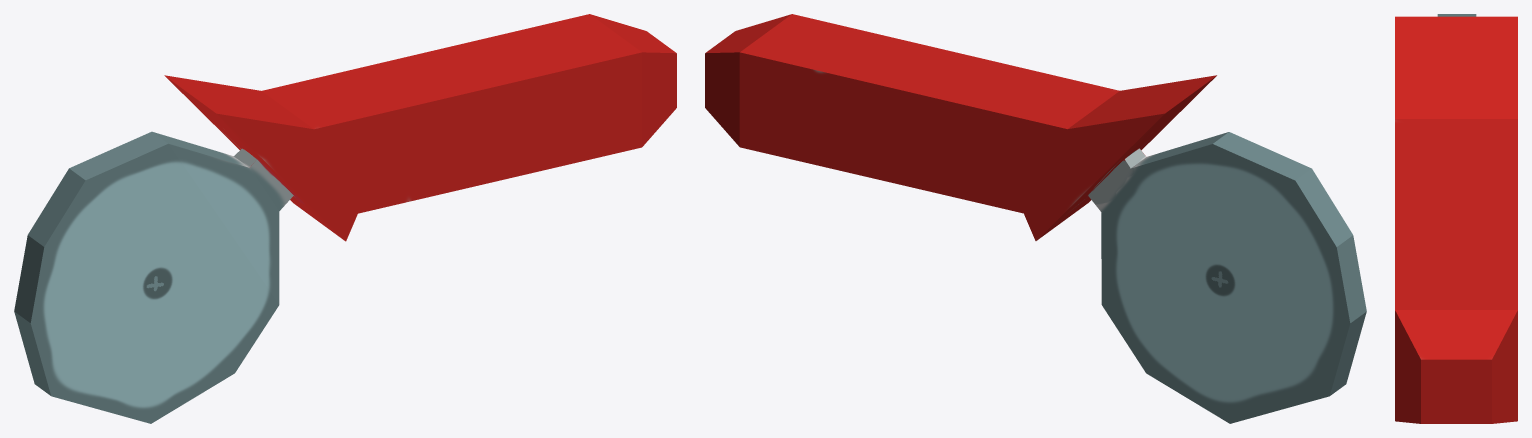
The model's file is PizzaCutter.fbx.
3 views of the same model, side by side, from view 1: azimuth 30°, elevation 25°; view 2: azimuth 150°, elevation 25°; view 3: azimuth 270°, elevation 25° (orthographic). The views are drawn at different scales.
Parts seen in each view (by area): view 1: Cube; view 2: Cube; view 3: Cube.
Boxes of the visible parts, x1,y1,x2,y2 form: Cube: (14,14,676,423); Cube: (705,14,1366,423); Cube: (1395,14,1517,423).
Size of the model in its own units: 421 by 196 by 59.85.
1 material, 1 textured.
